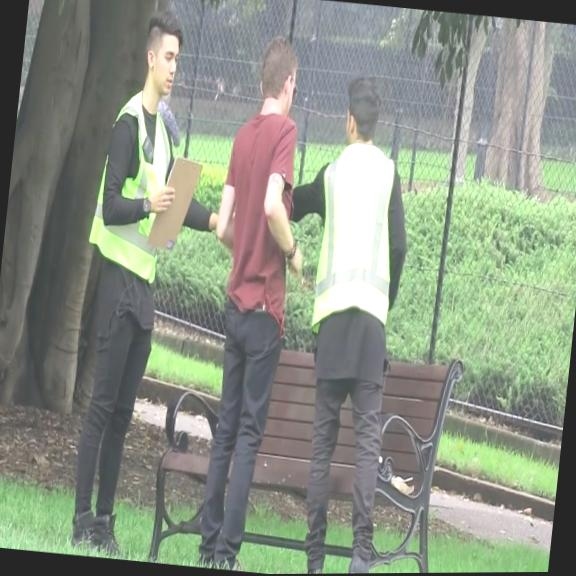safety_vest: (308, 137, 404, 340), (86, 86, 178, 284)
